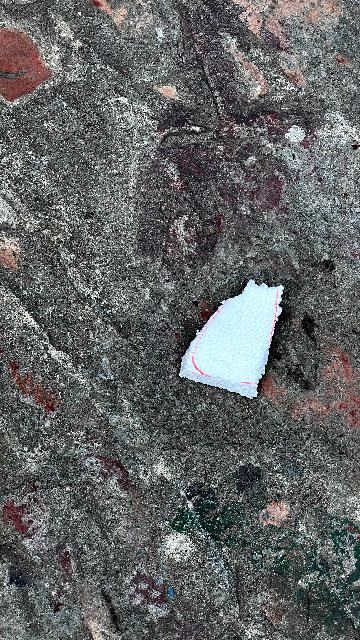cocksheet: (174, 271, 292, 404)
